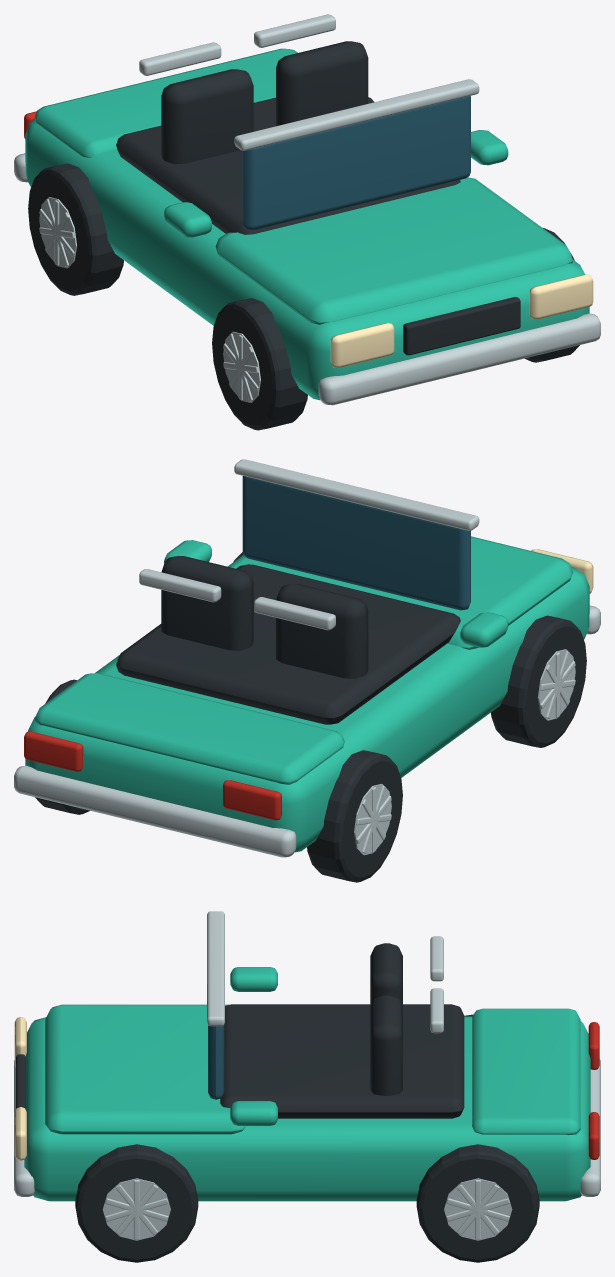
The model's file is palm-roadster.glb.
3 views of the same model, one above another, from view 1: azimuth 30°, elevation 25°; view 2: azimuth 150°, elevation 25°; view 3: azimuth 270°, elevation 25° (orthographic). The views are drawn at different scales.
Parts seen in each view (by area): view 1: palm-roadster paint, Rubber.003, Midnight blue glass.003, Satin alloy.003, TireMeshFL, TireMeshRL, Ivory headlights.003; view 2: palm-roadster paint, Rubber.003, Midnight blue glass.003, Satin alloy.003, TireMeshFL, TireMeshRL, Red tail lamps.003, Ivory headlights.003, TireMeshRR; view 3: palm-roadster paint, Rubber.003, TireMeshFR, TireMeshRR, Satin alloy.003, Midnight blue glass.003, Ivory headlights.003, Red tail lamps.003.
Boxes of the visible parts, x1,y1,x2,y2 form: palm-roadster paint: [25, 48, 589, 400]; Rubber.003: [116, 41, 520, 355]; Midnight blue glass.003: [242, 96, 470, 230]; Satin alloy.003: [14, 14, 600, 405]; TireMeshFL: [212, 298, 307, 430]; TireMeshRL: [28, 163, 123, 295]; Ivory headlights.003: [330, 274, 593, 368]; palm-roadster paint: [25, 536, 589, 852]; Rubber.003: [116, 556, 460, 724]; Midnight blue glass.003: [242, 476, 470, 610]; Satin alloy.003: [14, 459, 600, 857]; TireMeshFL: [491, 615, 586, 747]; TireMeshRL: [307, 750, 402, 882]; Red tail lamps.003: [24, 731, 281, 820]; Ivory headlights.003: [531, 549, 593, 593]; TireMeshRR: [35, 679, 89, 814]; palm-roadster paint: [24, 967, 590, 1201]; Rubber.003: [16, 943, 464, 1118]; TireMeshFR: [75, 1144, 198, 1262]; TireMeshRR: [416, 1144, 539, 1262]; Satin alloy.003: [14, 911, 600, 1196]; Midnight blue glass.003: [208, 1025, 224, 1099]; Ivory headlights.003: [14, 1017, 26, 1160]; Red tail lamps.003: [588, 1022, 599, 1159].
Size of the model in its own units: 2.55 by 1.86 by 4.3.
